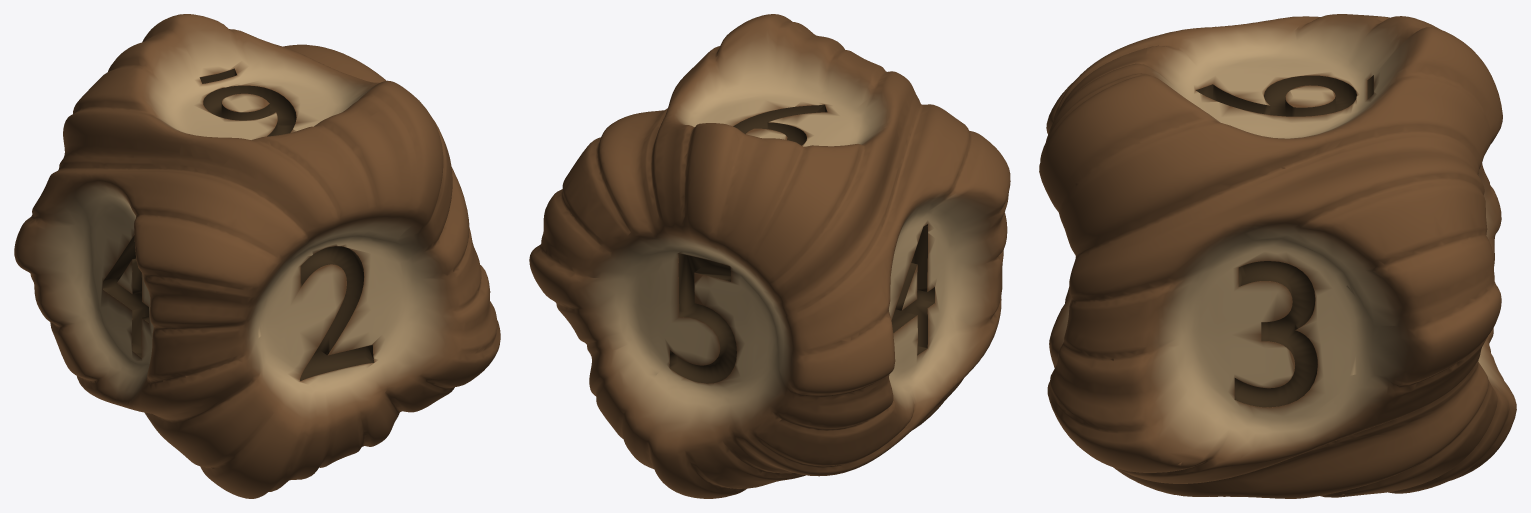
3 views of the same model, side by side, from view 1: azimuth 30°, elevation 25°; view 2: azimuth 150°, elevation 25°; view 3: azimuth 270°, elevation 25° (orthographic). The views are drawn at different scales.
Visible parts, largest first — view 1: d6 canonical carved continuous body; view 2: d6 canonical carved continuous body; view 3: d6 canonical carved continuous body.
Boxes of the visible parts, bbox=[...] form: d6 canonical carved continuous body: bbox=[14, 14, 500, 498]; d6 canonical carved continuous body: bbox=[529, 14, 1010, 498]; d6 canonical carved continuous body: bbox=[1039, 14, 1516, 498].
Bounding box in the file's own units: 1.09 × 1.09 × 1.06.
